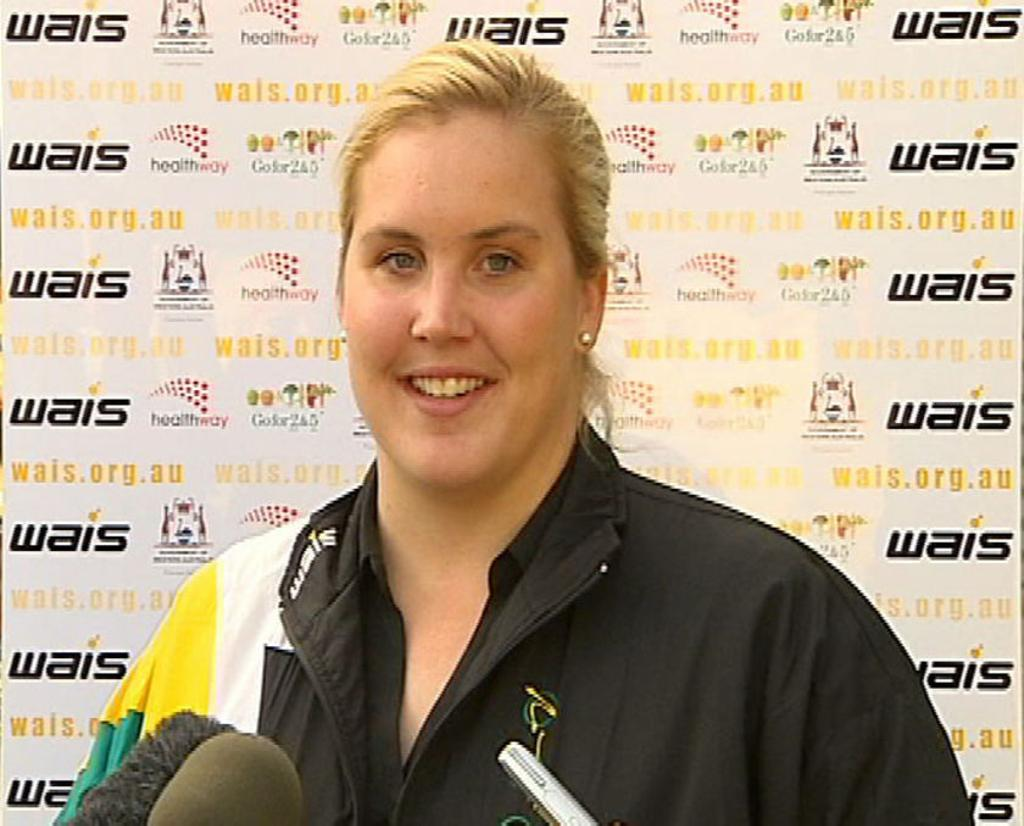face: (344, 156, 572, 482)
